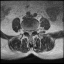CCS_normal: (29, 27, 31, 37)
LFS_normal: (32, 27, 35, 34)
LLS_normal: (31, 27, 32, 36)
RFS_normal: (25, 27, 27, 34)
RLS_normal: (27, 28, 29, 36)
